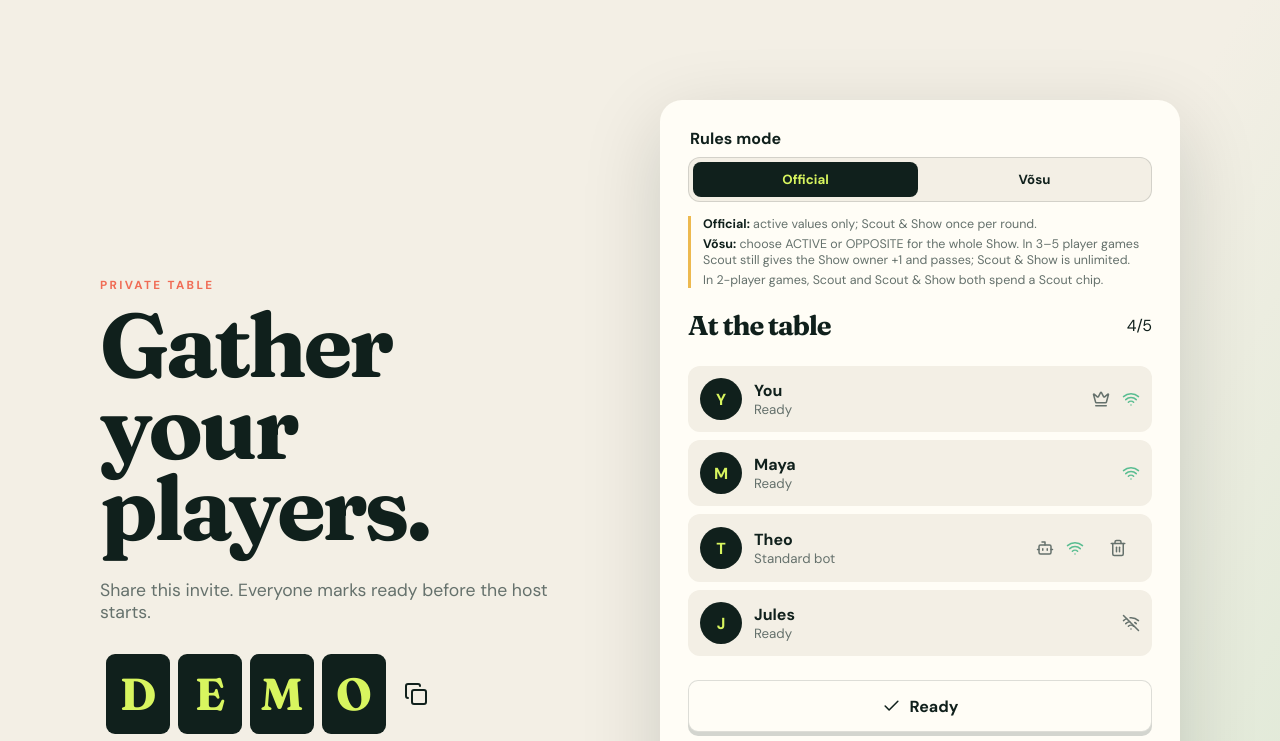
LobbyScreen experience polish › falls back when the async clipboard is unavailable
Step 1. Click the button named "Copy invite link" → (267, 694), box [100,653,434,735]
(page scrolled)
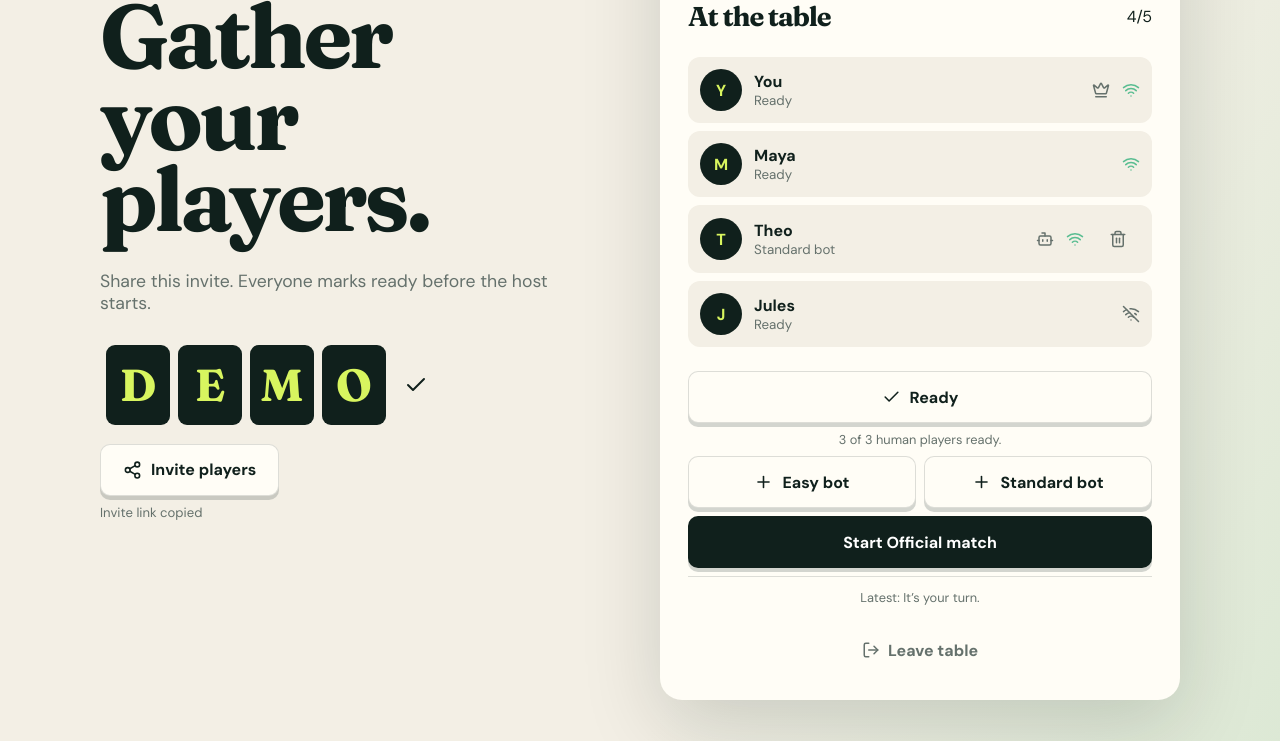
Now the text "Invite link copied" is shown, box [100,504,202,521]
